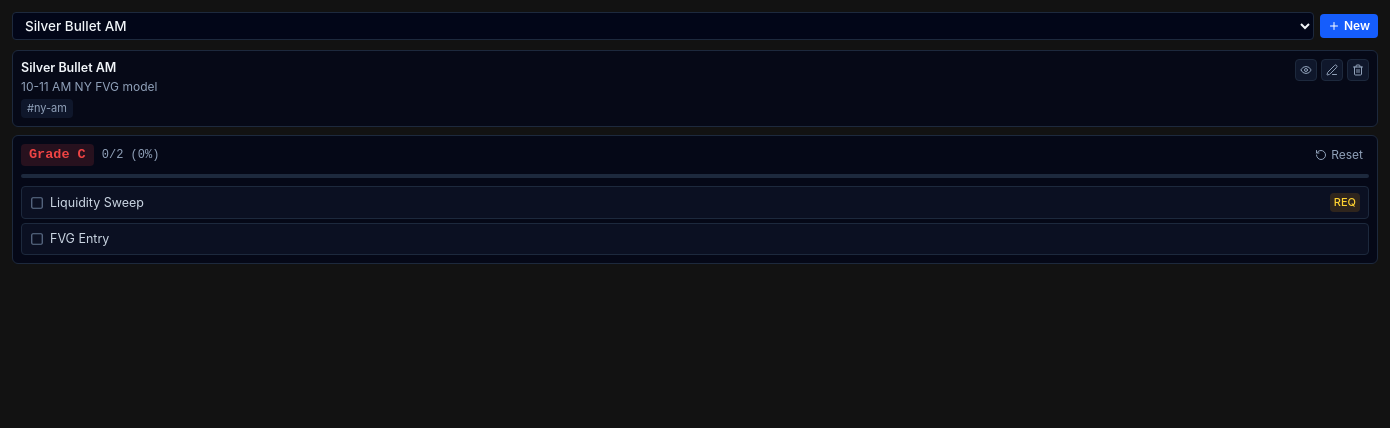
it: Milestone 3 Widgets › computes live Grade C -> A+ as checklist items are toggled in StrategiesWidget
The width and height of the screenshot is (1390, 428).
expect the text "Grade C" is shown: met, box [21,144,94,166]
Click the text "Liquidity Sweep".
click(97, 203)  # box [50,194,144,212]
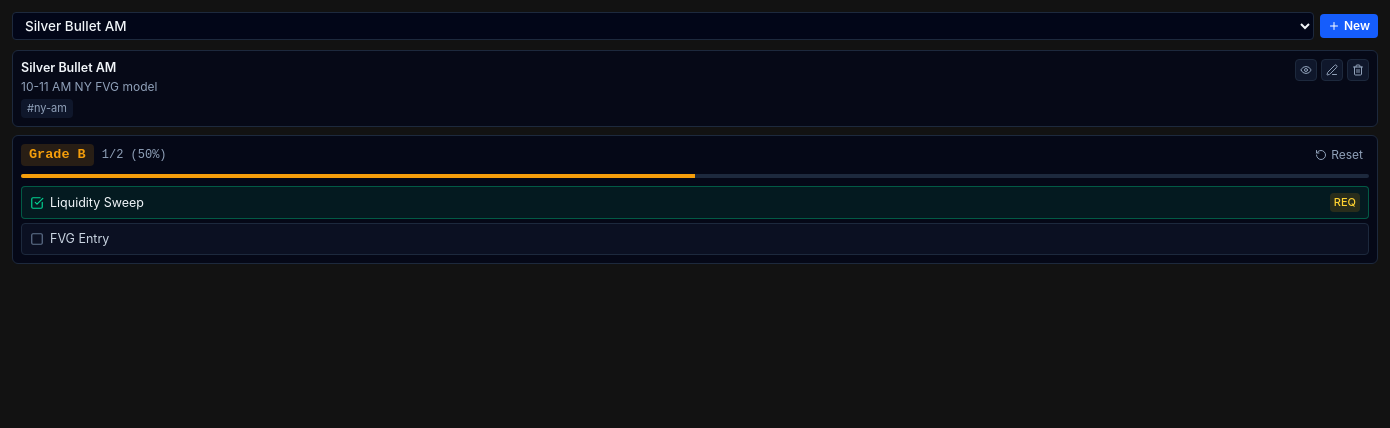
expect the text "Grade B" is shown: met, box [21,144,94,166]
Click the button "FVG Entry".
click(80, 239)  # box [21,223,1369,255]
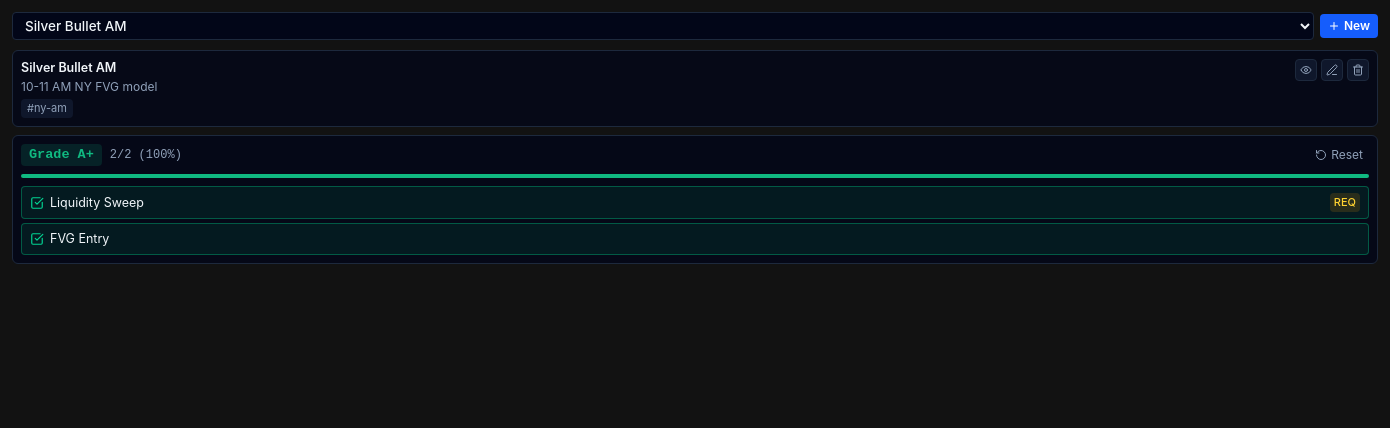
expect the text "Grade A+" is shown: met, box [21,144,102,166]
Click the button titled "Edit playbook & checklist".
click(1332, 70)  # box [1321,59,1343,81]
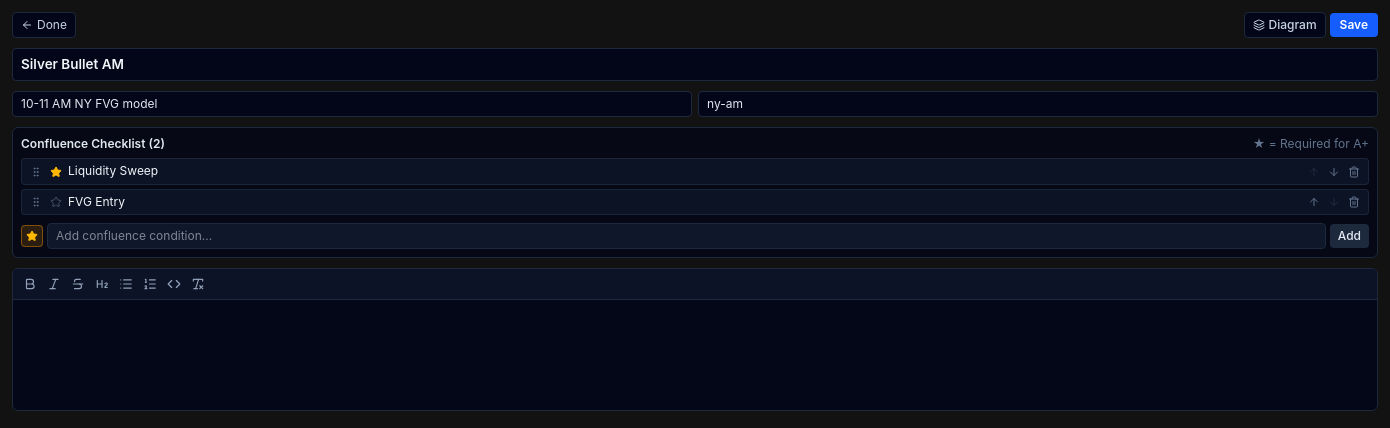
expect the button named "Drag Liquidity Sweep" is shown: met, box [28,164,44,180]
expect the button "Save" is shown: met
Click the button "Save".
click(1354, 25)  # box [1330,13,1378,37]
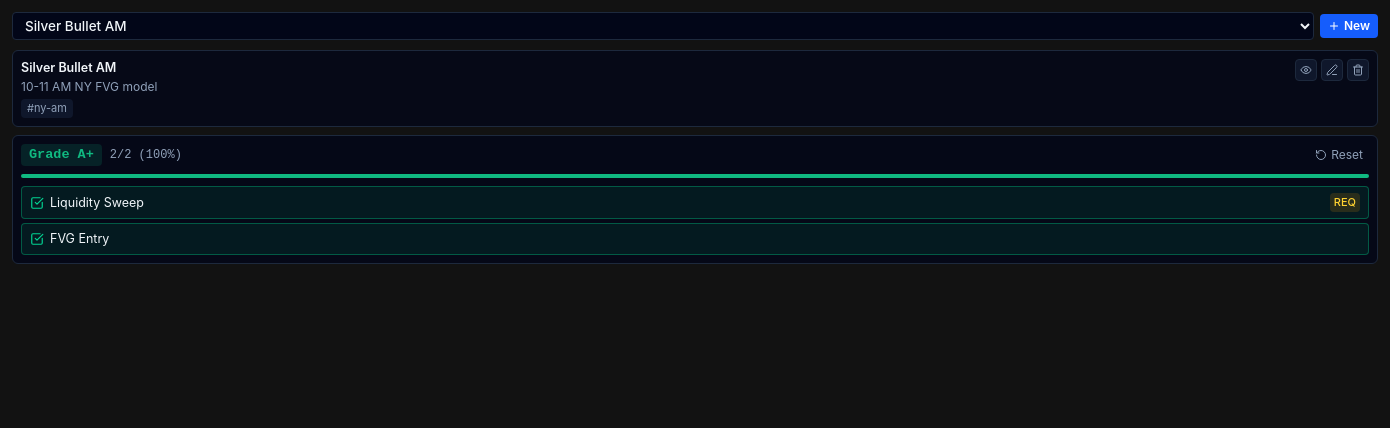
expect the text "Grade A+" is shown: met, box [21,144,102,166]
